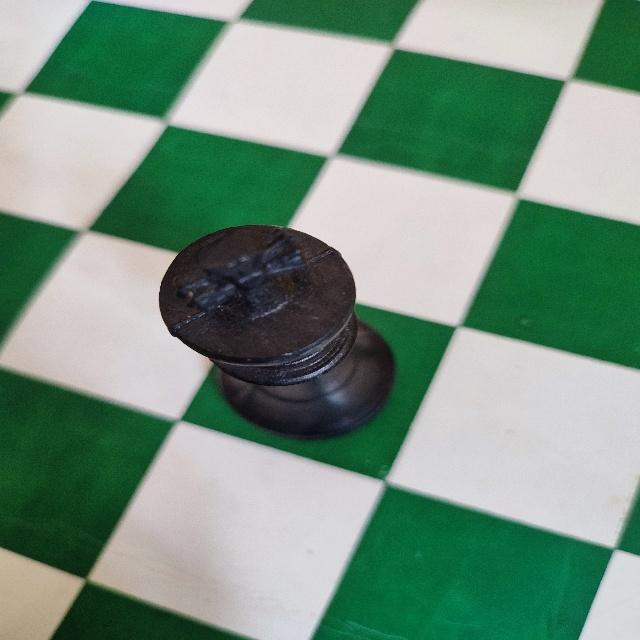King: (156, 219, 400, 445)
